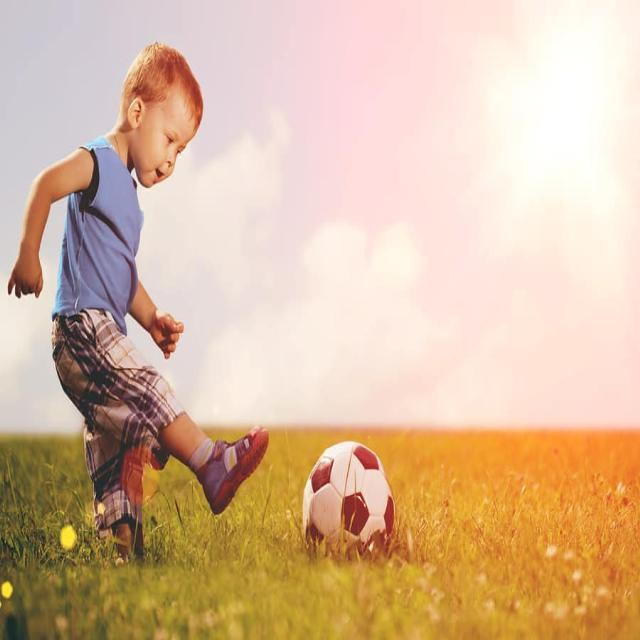child: (8, 39, 271, 560)
